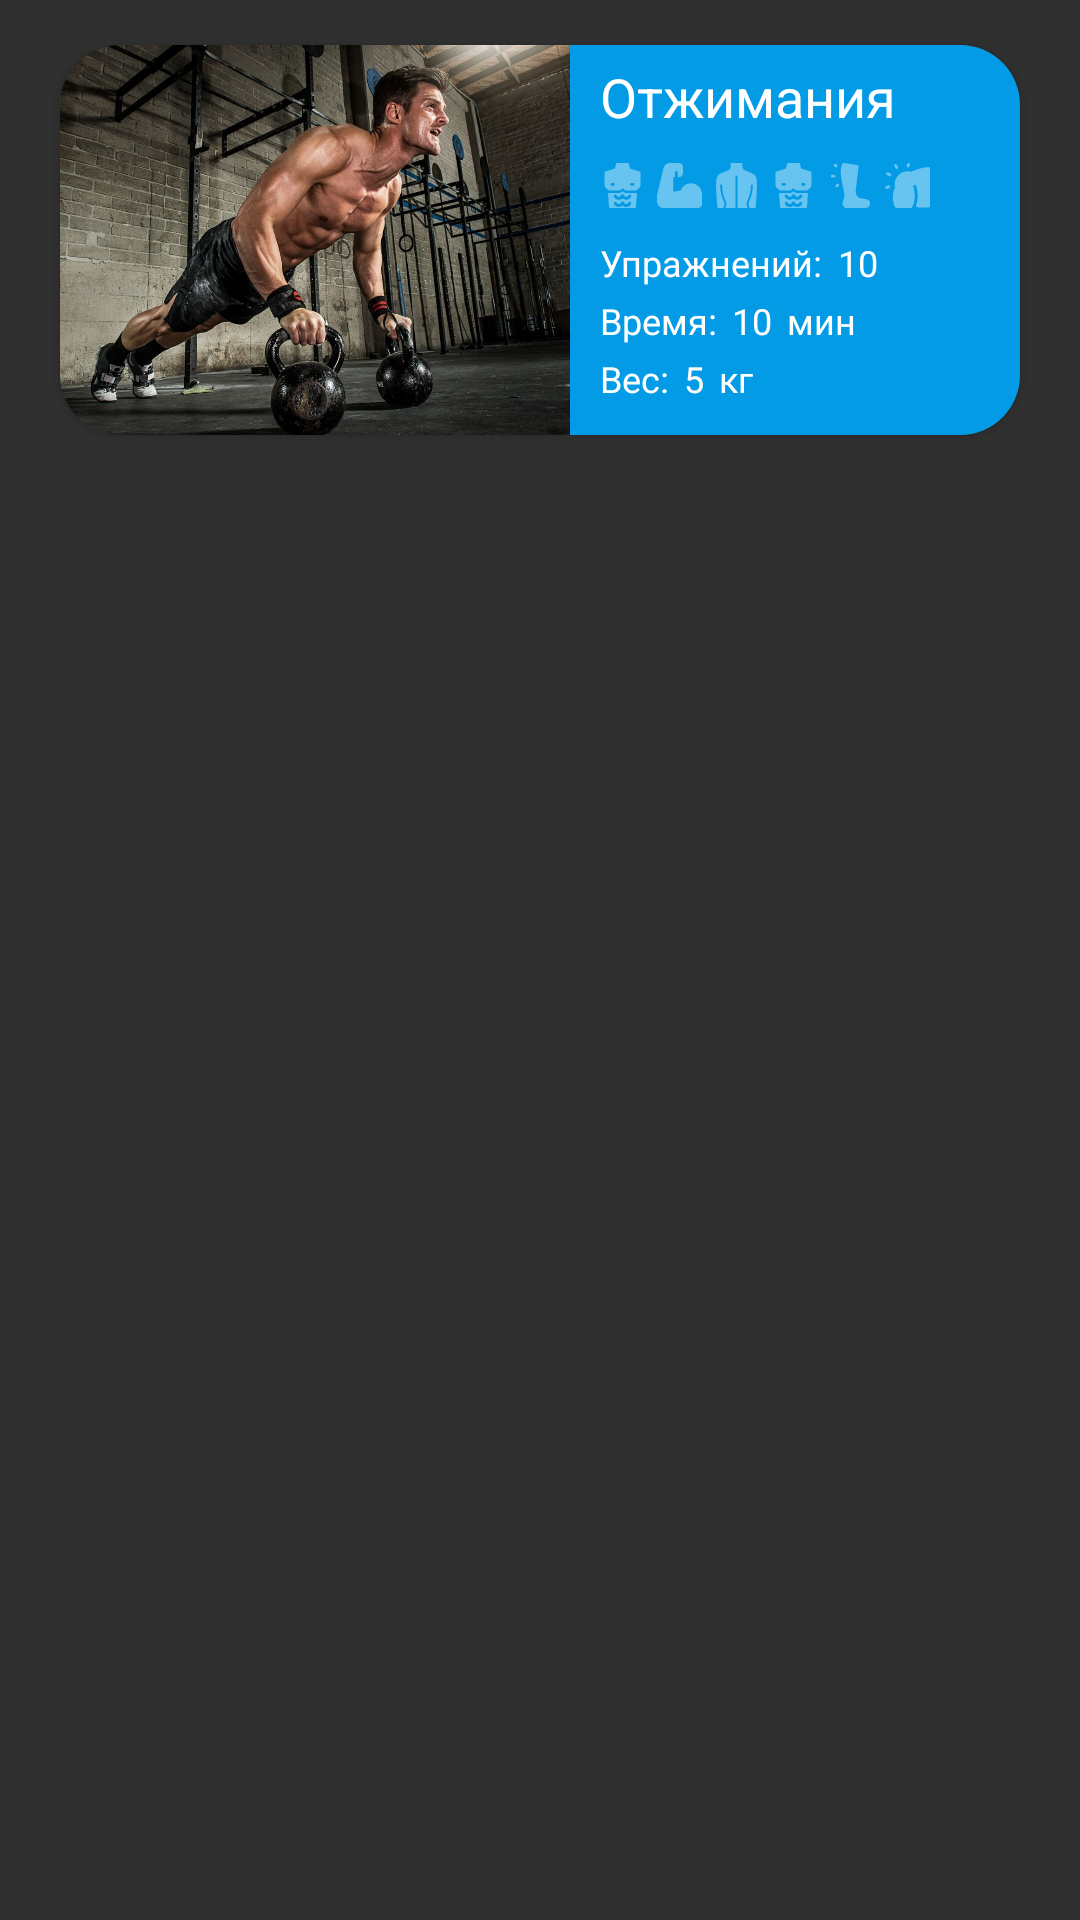

Icon click points for this 1080 x 1920 phone screenshot, format (x=x, y=y):
arm: (x=679, y=185)
back: (x=736, y=185)
chest: (x=622, y=185), (x=793, y=185)
leg: (x=850, y=185)
